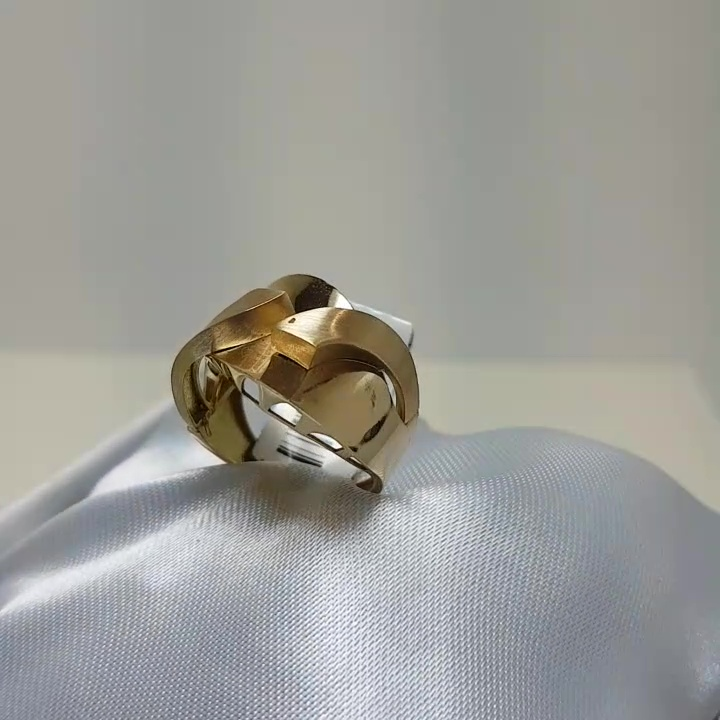Ring 4: (153, 265, 428, 512)
